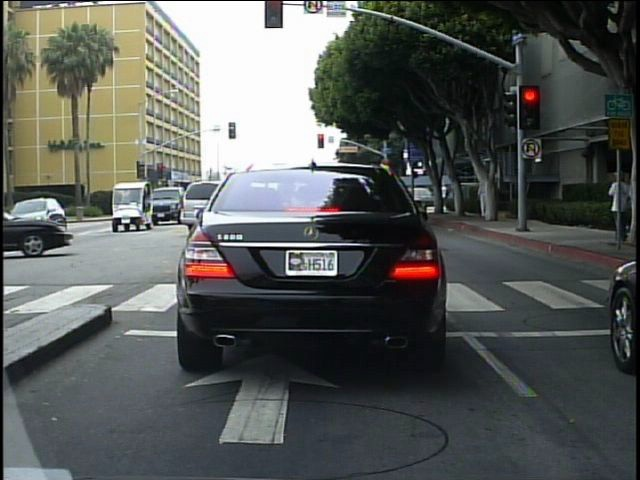person: (615, 166, 634, 251), (476, 179, 490, 218), (437, 179, 451, 214), (631, 165, 634, 259)
